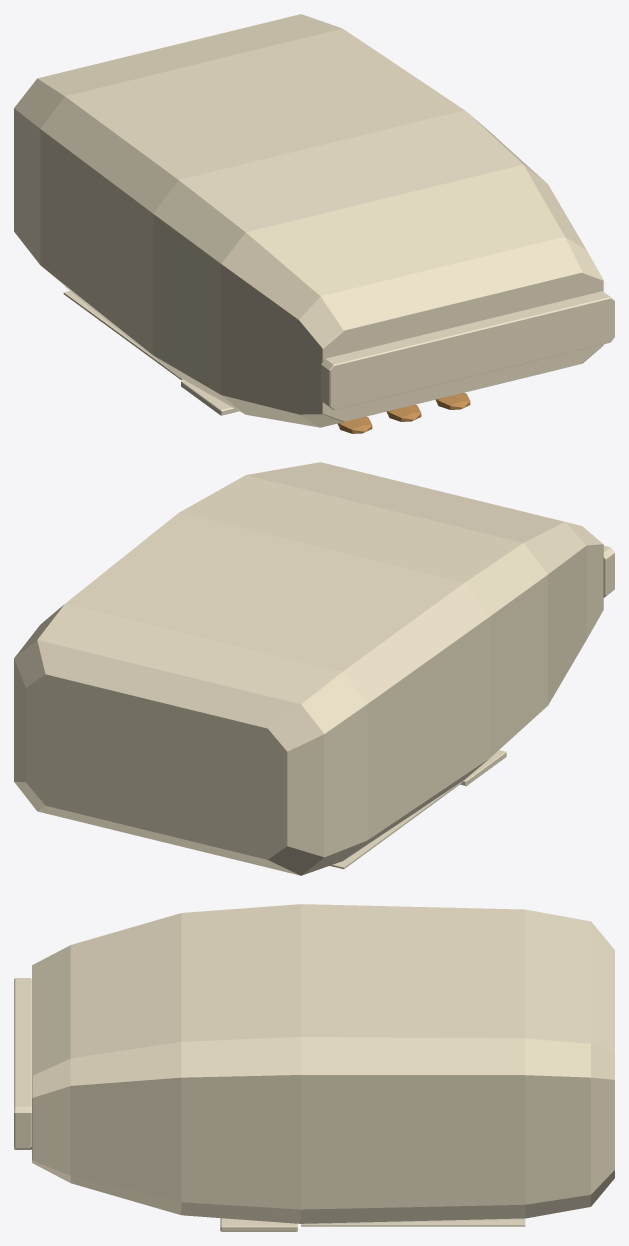
File: chickpeas.glb
3 renders of one model, top to bottom at view 1: azimuth 30°, elevation 25°; view 2: azimuth 150°, elevation 25°; view 3: azimuth 270°, elevation 25°, orthographic. The views are drawn at different scales.
Visible parts, largest first — view 1: chickpeas; view 2: chickpeas; view 3: chickpeas.
Part boxes in pixels (x1,y1,x2,y2): chickpeas: (14,14,614,433); chickpeas: (14,462,614,875); chickpeas: (14,904,614,1231).
Size of the model in its own units: 0.1236 by 0.0746 by 0.201.
